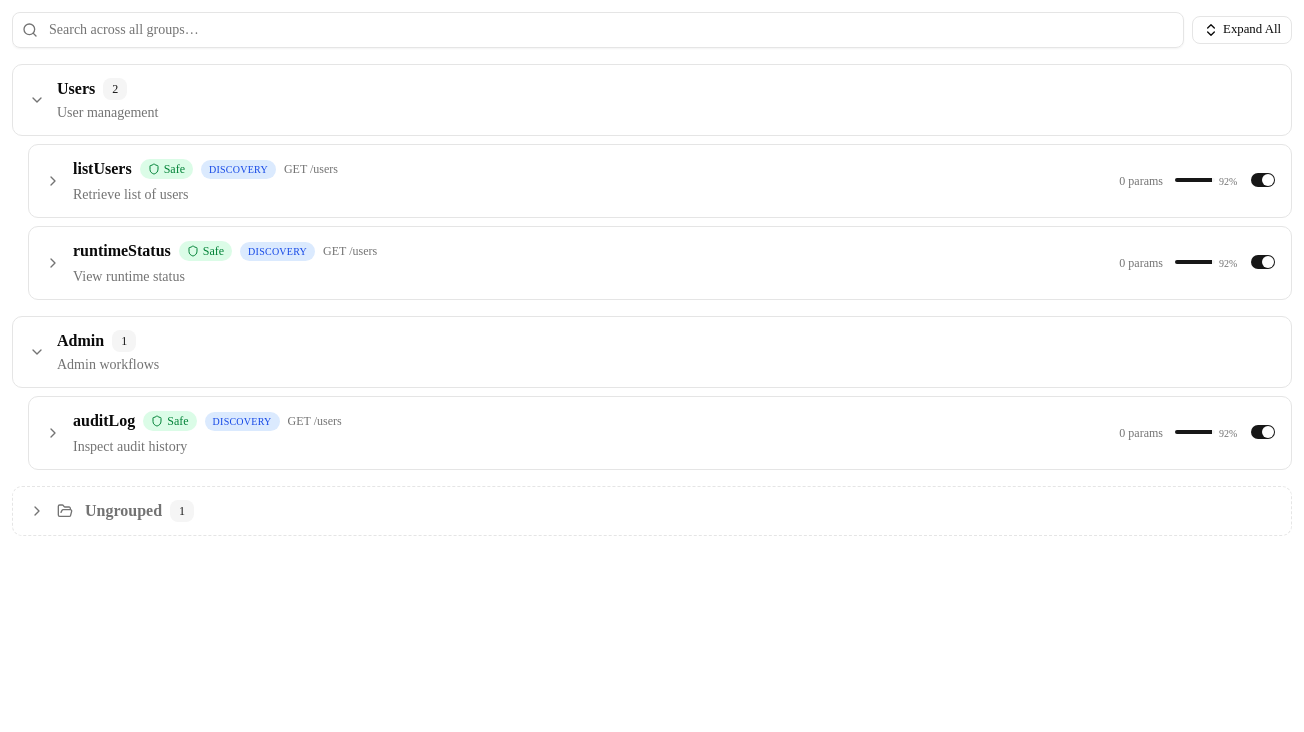
Test case: ToolGroupView › starts with grouped operations expanded and can expand or collapse all groups
Check: the text "listUsers" is shown, box left=73, top=157, right=132, bottom=181
Check: the text "runtimeStatus" is shown, box left=73, top=239, right=171, bottom=263
Click the button "Expand All": (1242, 30) left=1192, top=16, right=1292, bottom=44
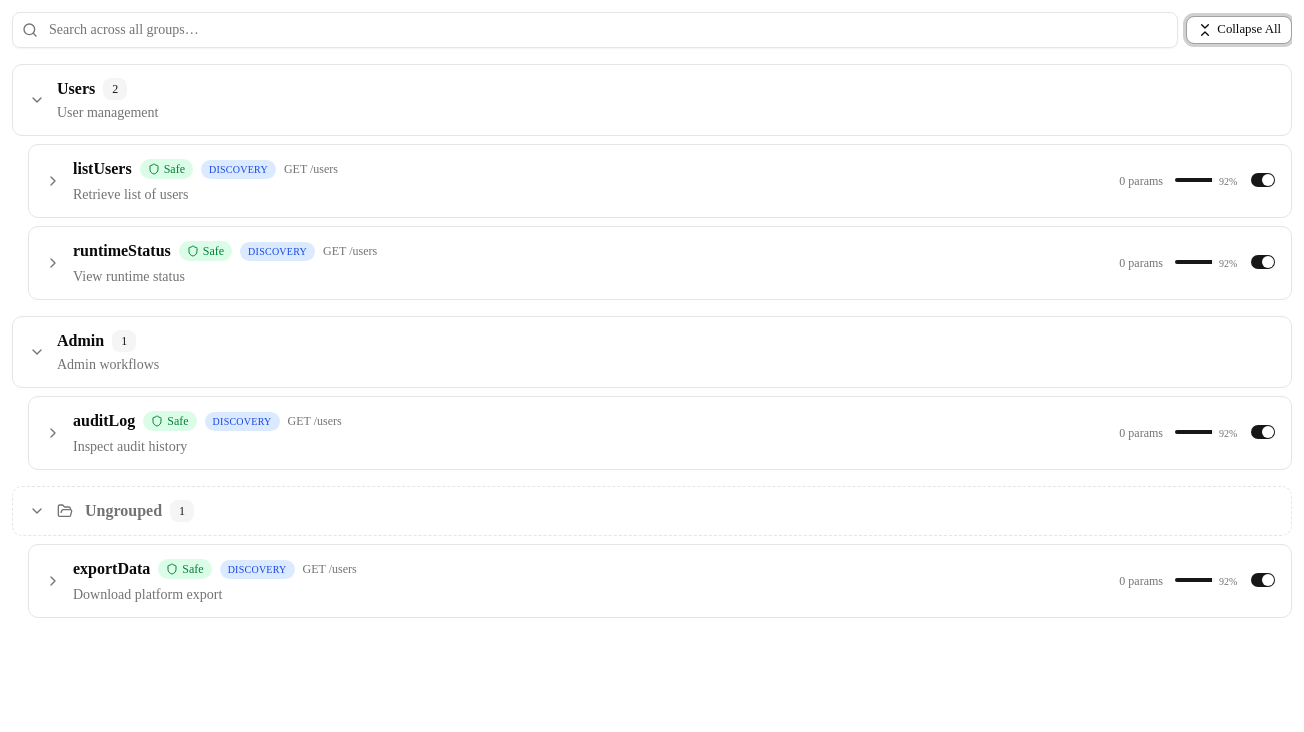
Check: the text "exportData" is shown, box left=73, top=557, right=150, bottom=581
Check: the button "Collapse All" is shown
Click the button "Collapse All": (1239, 30) left=1186, top=16, right=1292, bottom=44
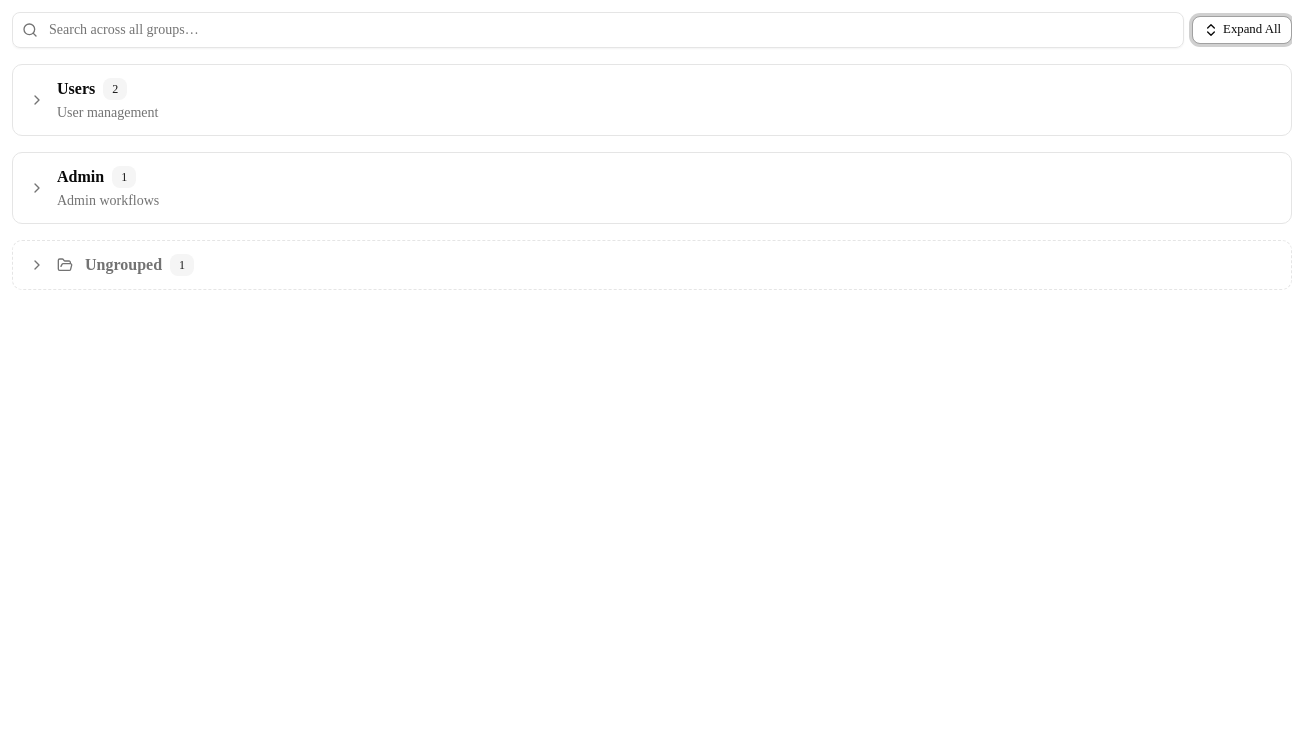
Check: the button "listUsers" is gone
Check: the button "exportData" is gone
